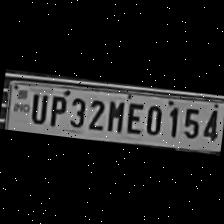0: (140, 100, 164, 136)
1: (160, 102, 180, 138)
2: (84, 94, 106, 132)
3: (64, 92, 86, 129)
4: (197, 106, 222, 142)
5: (176, 103, 200, 140)
E: (121, 98, 144, 135)
M: (102, 96, 125, 132)
P: (42, 90, 66, 128)
U: (26, 90, 48, 124)
